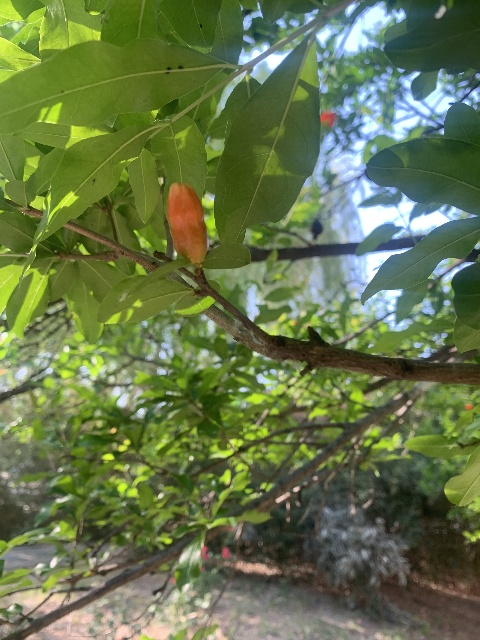bud: (166, 180, 207, 265)
